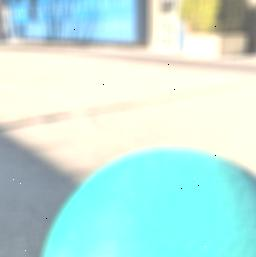algae: (39, 147, 256, 257)
